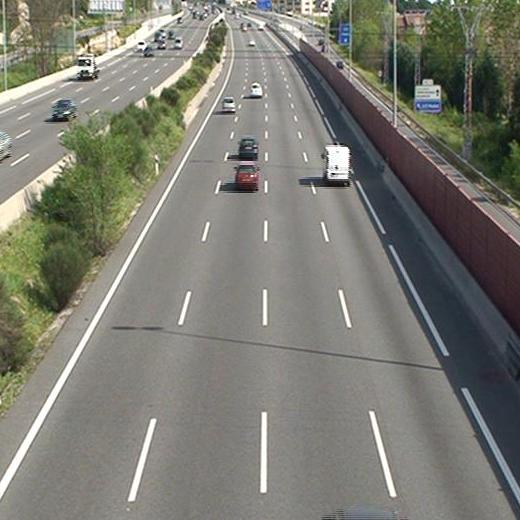car: (234, 160, 259, 189), (237, 137, 258, 158), (221, 95, 235, 113), (248, 82, 263, 97)
van: (320, 144, 352, 187)
